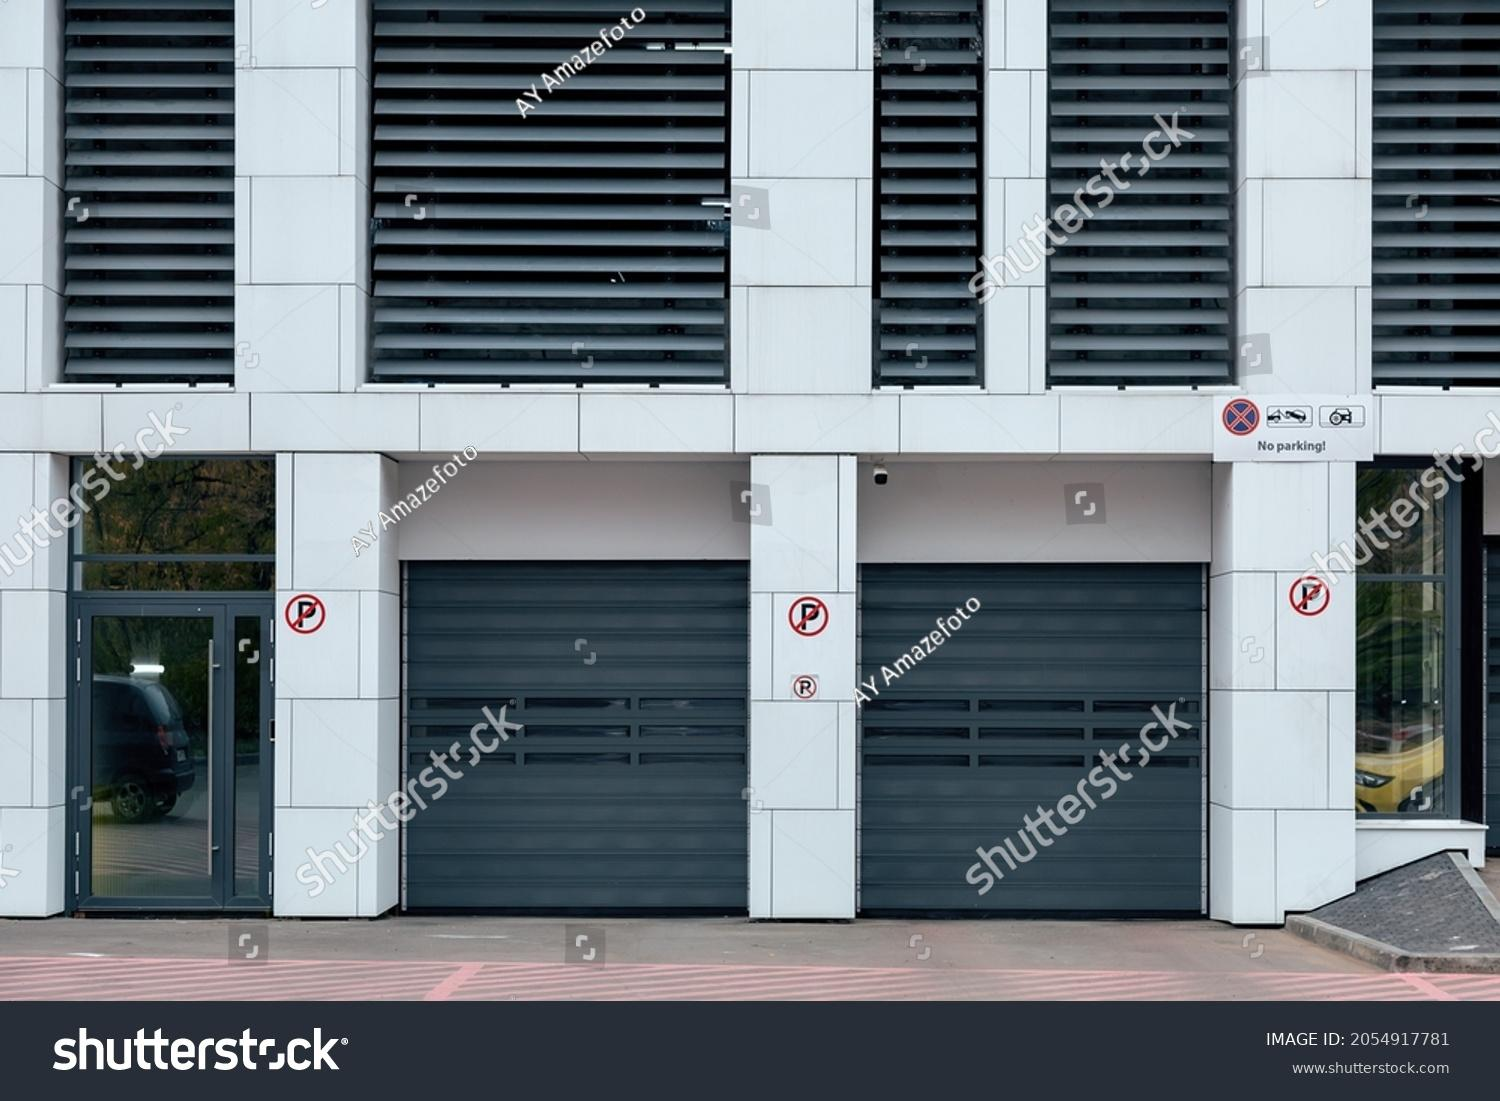No Parking: (785, 595, 840, 644), (283, 593, 330, 640), (1290, 583, 1328, 620)
